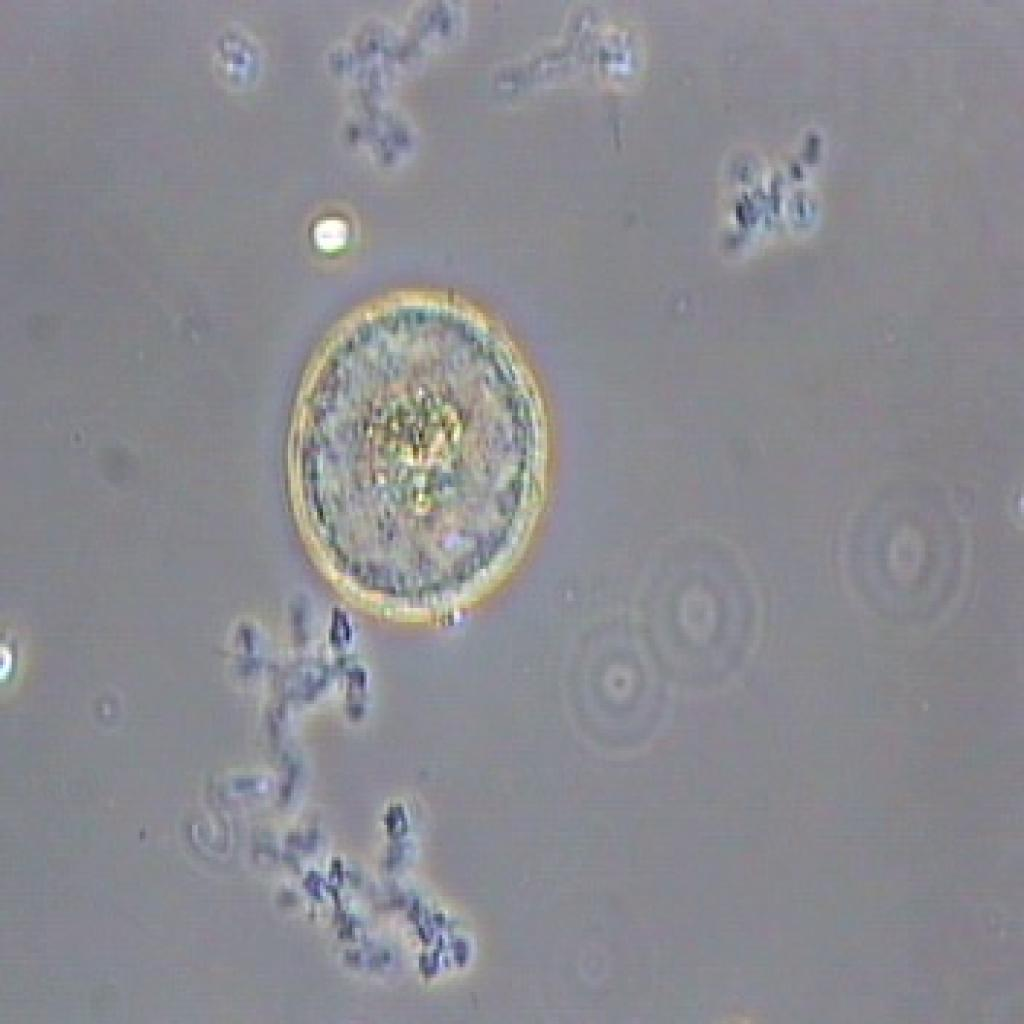Arcella: (278, 274, 566, 633)
